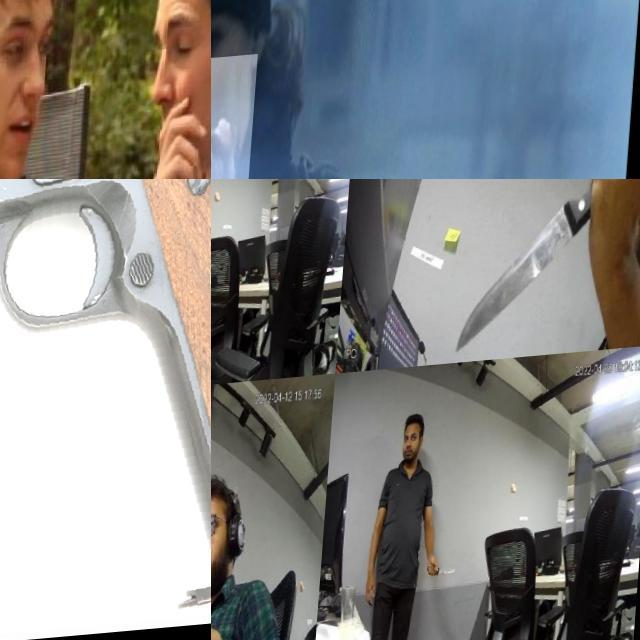-: (459, 217, 578, 361), (211, 561, 234, 606), (440, 563, 464, 593), (211, 268, 224, 304)
gun-knife-thesis - v11 Yolov5 augmented: (0, 179, 211, 640), (211, 58, 278, 179)
